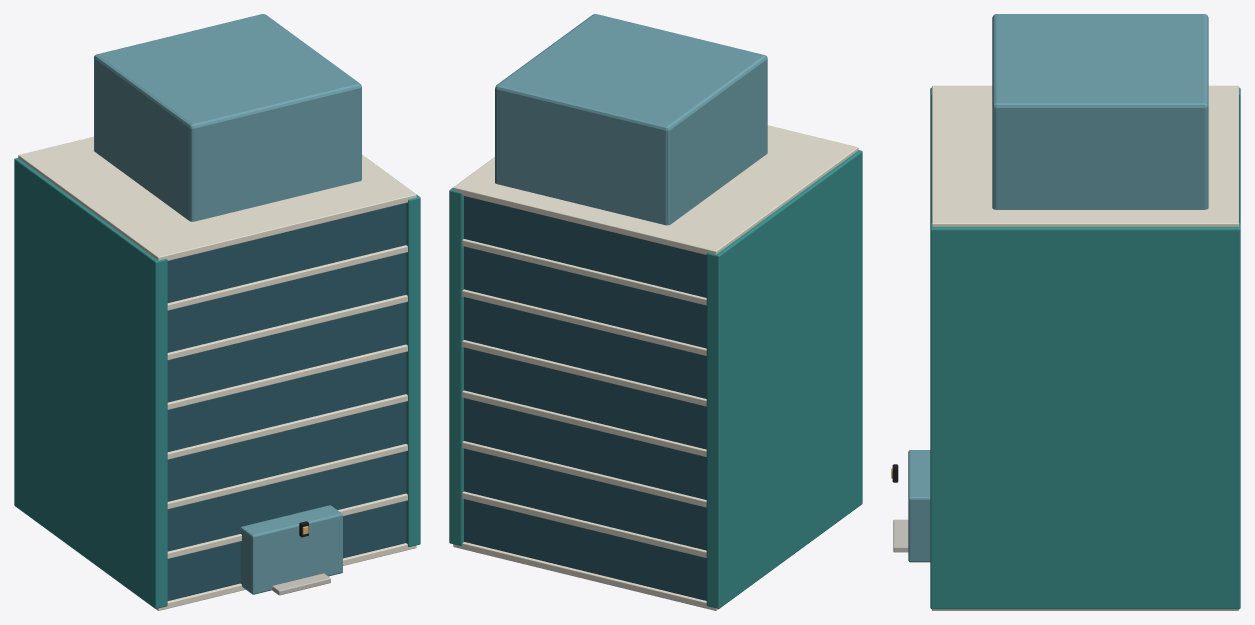
The model's file is OFF_MID_2x2_002.glb.
3 views of the same model, side by side, from view 1: azimuth 30°, elevation 25°; view 2: azimuth 150°, elevation 25°; view 3: azimuth 270°, elevation 25° (orthographic). The views are drawn at different scales.
Parts seen in each view (by area): view 1: OFF_MID_2x2_002_Visual; view 2: OFF_MID_2x2_002_Visual; view 3: OFF_MID_2x2_002_Visual.
Part boxes in pixels (box(x1,y1,x2,y2)): OFF_MID_2x2_002_Visual: box(14, 14, 420, 610); OFF_MID_2x2_002_Visual: box(449, 14, 862, 610); OFF_MID_2x2_002_Visual: box(891, 14, 1240, 610).
Size of what is drawn, in the model's own units: 3.36 by 5.44 by 3.49.
